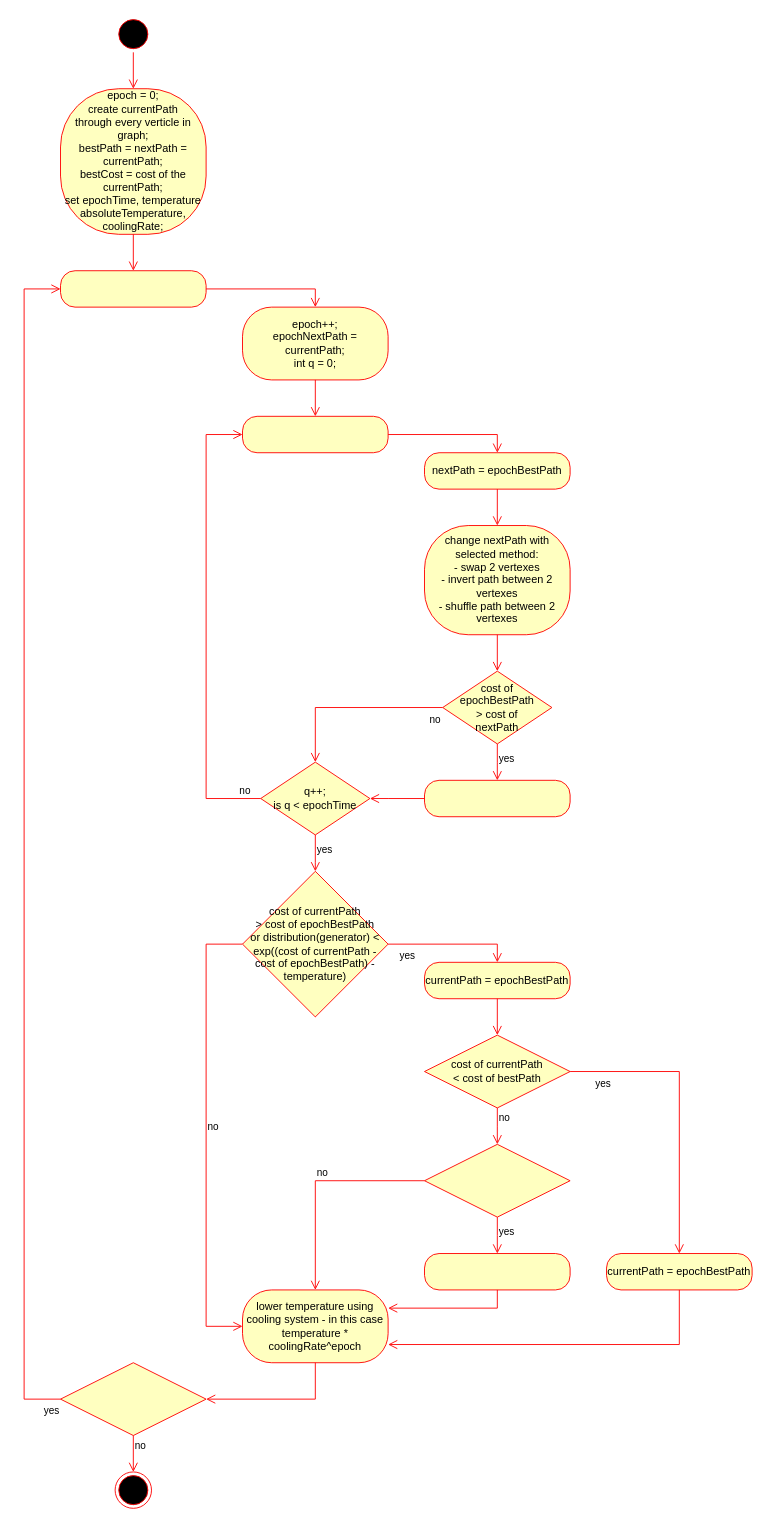
The diagram is 768 pixels wide and 1524 high, and some of its shapes have lost their labels. The box of each missing label's shape, as (x1, y1, x2, y2) in pixels:
cost of currentPath > 1.5 * (cost of bestPath): (424, 1143, 570, 1217)
currentPath = bestPath: (424, 1253, 570, 1290)
epochBestPath = nextPath: (424, 779, 570, 817)
Is temperature > absoluteTemperaure?: (60, 1362, 206, 1436)
while q < epochTime;: (242, 415, 388, 453)
while(temperature > absoluteTemperature): (60, 270, 206, 307)
